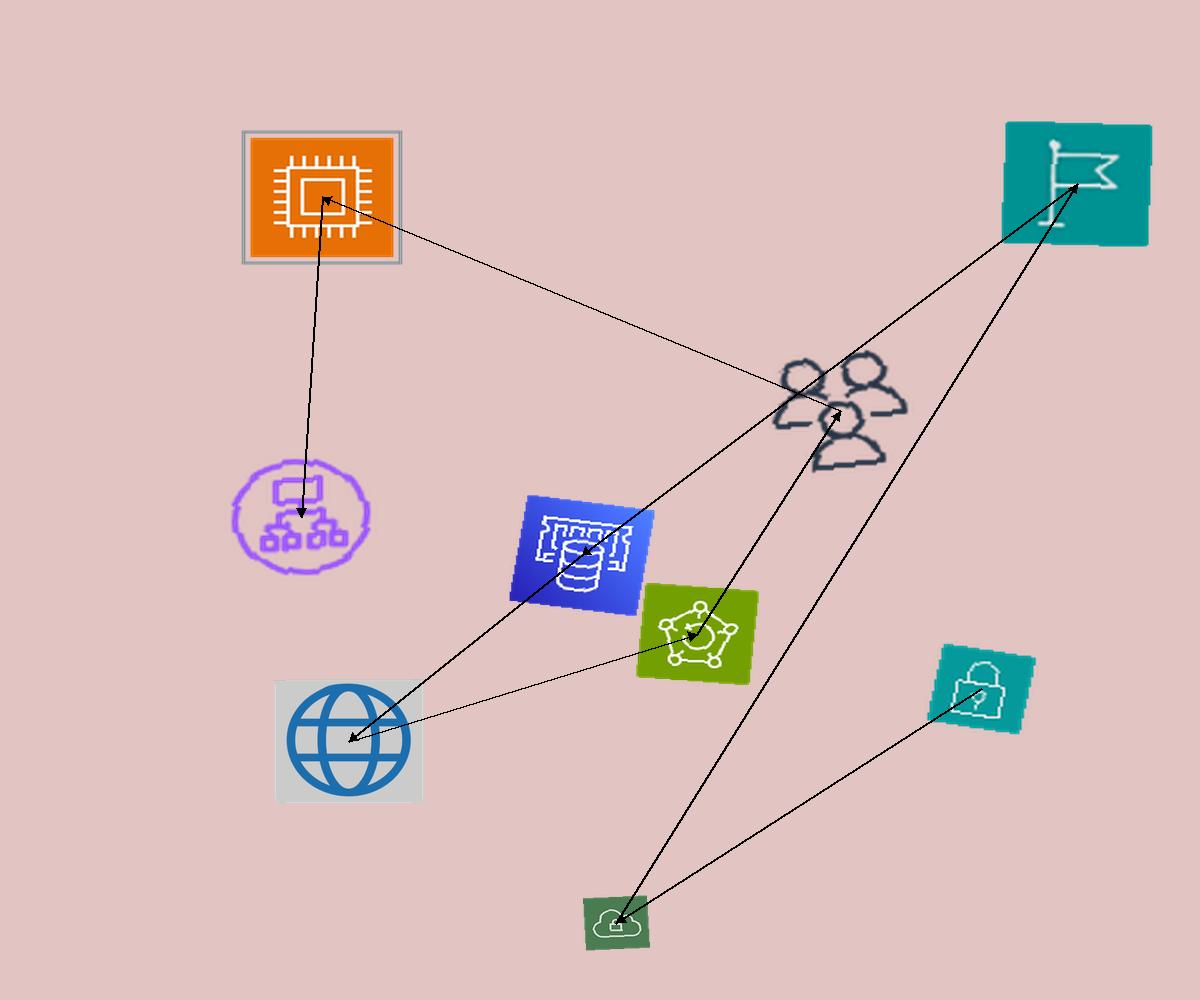AWS-Backup: (635, 582, 760, 686)
AWS-Category_Compute: (240, 129, 404, 266)
AWS-ElastiCache: (508, 494, 656, 617)
AWS-Private-subnet: (925, 642, 1038, 736)
AWS-Private_vpc: (583, 895, 650, 951)
AWS-Region: (1000, 120, 1154, 248)
AWS-Res_Elastic-Load-Balancing_Application-Load-Balancer: (216, 446, 386, 588)
AWS-Res_Users: (754, 340, 926, 483)
Azure_http: (274, 679, 424, 804)
